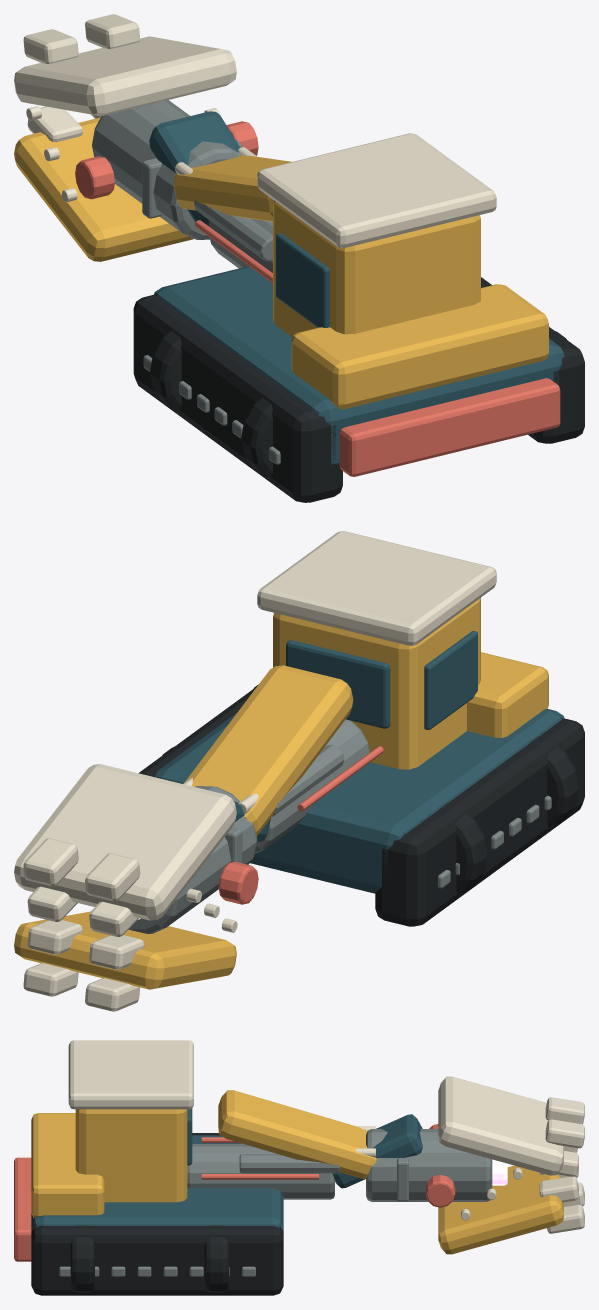
The model's file is reclaimer_whale_jaw.glb.
The picture shows the model from 3 angles, top to bottom: view 1: azimuth 30°, elevation 25°; view 2: azimuth 150°, elevation 25°; view 3: azimuth 270°, elevation 25°; orthographic projection. The views are drawn at different scales.
Visible parts, largest first — view 1: Rear_ServiceDeck, Cabin_Roof, Cabin, Track_L_Guard, Base_Chassis, Jaw_Upper_Stage02, Rear_Bumper, Jaw_Lower_Stage02, Jaw_Mount_Collar, Boom_Main, Cabin_Window_Left, Arm_Interface (+12 smaller); view 2: Base_Chassis, Jaw_Upper_Stage02, Cabin_Roof, Track_L_Guard, Boom_Main, Cabin, Jaw_Lower_Stage02, Rear_ServiceDeck, Cabin_Window_Front, Cabin_Window_Left, Jaw_Mount_Collar, Boom_Pivot (+14 smaller); view 3: Track_R_Guard, Cabin, Cabin_Roof, Jaw_Upper_Stage02, Boom_Main, Base_Chassis, Jaw_Lower_Stage02, Rear_ServiceDeck, Jaw_Mount_Collar, Boom_Pivot, Arm_Interface, Rear_Bumper (+12 smaller).
Part boxes in pixels (x1=…): Rear_ServiceDeck: x1=291, y1=284, x2=548, y2=409; Cabin_Roof: x1=257, y1=133, x2=496, y2=247; Cabin: x1=273, y1=200, x2=480, y2=336; Track_L_Guard: x1=133, y1=294, x2=342, y2=502; Base_Chassis: x1=154, y1=267, x2=564, y2=465; Jaw_Upper_Stage02: x1=14, y1=36, x2=236, y2=116; Rear_Bumper: x1=339, y1=378, x2=560, y2=476; Jaw_Lower_Stage02: x1=14, y1=117, x2=193, y2=261; Jaw_Mount_Collar: x1=92, y1=100, x2=240, y2=239; Boom_Main: x1=174, y1=155, x2=291, y2=221; Cabin_Window_Left: x1=276, y1=233, x2=329, y2=327; Arm_Interface: x1=149, y1=111, x2=240, y2=232; Base_Chassis: x1=155, y1=709, x2=564, y2=893; Jaw_Upper_Stage02: x1=14, y1=764, x2=236, y2=920; Cabin_Roof: x1=257, y1=531, x2=496, y2=645; Track_L_Guard: x1=375, y1=718, x2=584, y2=926; Boom_Main: x1=184, y1=665, x2=353, y2=836; Cabin: x1=273, y1=598, x2=480, y2=769; Jaw_Lower_Stage02: x1=14, y1=911, x2=236, y2=989; Rear_ServiceDeck: x1=467, y1=652, x2=548, y2=737; Cabin_Window_Front: x1=286, y1=640, x2=390, y2=728; Cabin_Window_Left: x1=424, y1=631, x2=477, y2=729; Jaw_Mount_Collar: x1=129, y1=786, x2=257, y2=933; Boom_Pivot: x1=254, y1=719, x2=369, y2=853; Track_R_Guard: x1=31, y1=1226, x2=283, y2=1295; Cabin: x1=75, y1=1109, x2=187, y2=1202; Cabin_Roof: x1=68, y1=1040, x2=193, y2=1109; Jaw_Upper_Stage02: x1=438, y1=1076, x2=563, y2=1175; Boom_Main: x1=218, y1=1090, x2=376, y2=1179; Base_Chassis: x1=31, y1=1135, x2=283, y2=1230; Jaw_Lower_Stage02: x1=438, y1=1165, x2=563, y2=1254; Rear_ServiceDeck: x1=31, y1=1113, x2=104, y2=1218; Jaw_Mount_Collar: x1=366, y1=1129, x2=492, y2=1201; Boom_Pivot: x1=187, y1=1144, x2=334, y2=1199; Arm_Interface: x1=332, y1=1114, x2=422, y2=1188; Rear_Bumper: x1=14, y1=1157, x2=31, y2=1261.
Bounding box in the file's own units: 3.2 × 2.61 × 6.56.
